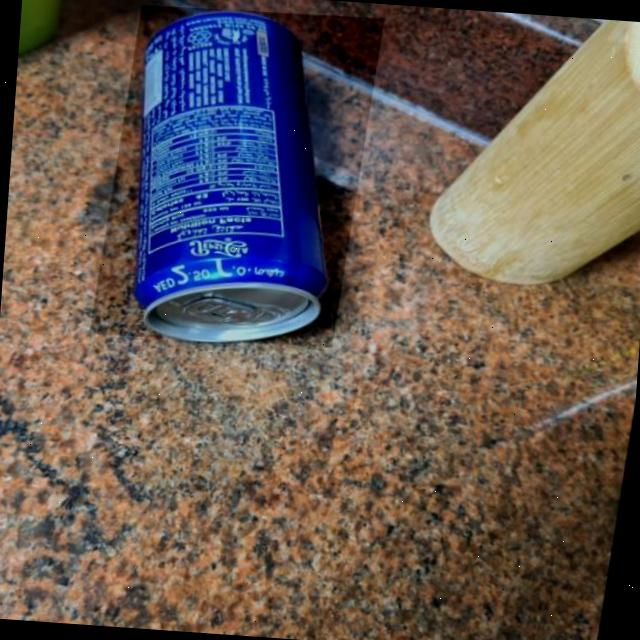trash: (110, 4, 345, 362)
